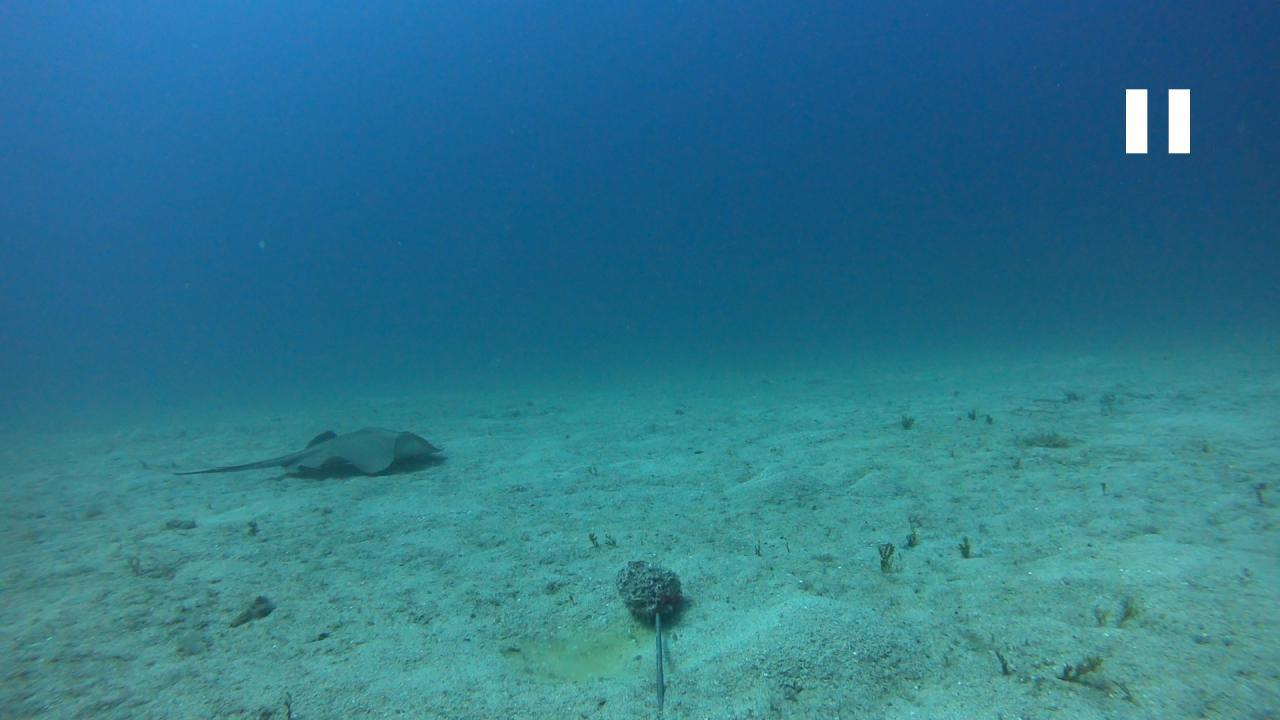dasyatis: (166, 426, 448, 482)
